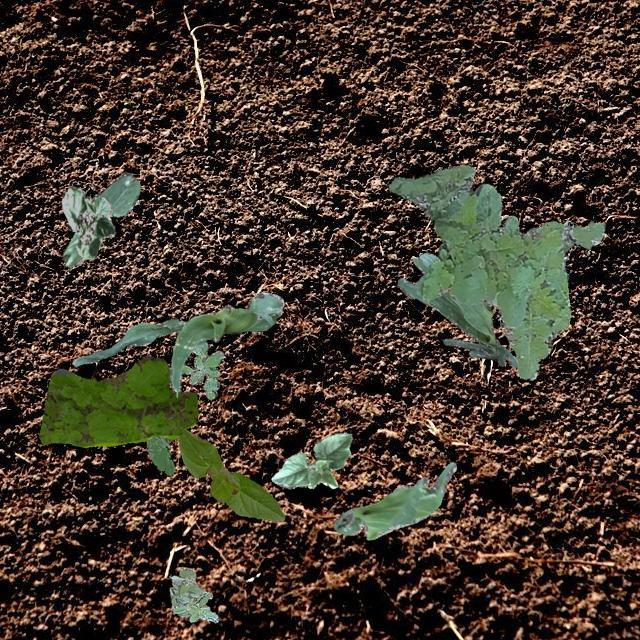crop: (71, 290, 282, 396), (396, 252, 516, 366), (178, 428, 284, 522), (332, 462, 456, 538), (62, 170, 140, 266), (270, 432, 350, 488), (60, 186, 114, 258)
weed: (388, 164, 604, 378), (38, 354, 196, 446), (168, 566, 218, 622), (180, 339, 222, 398), (144, 434, 174, 474)
